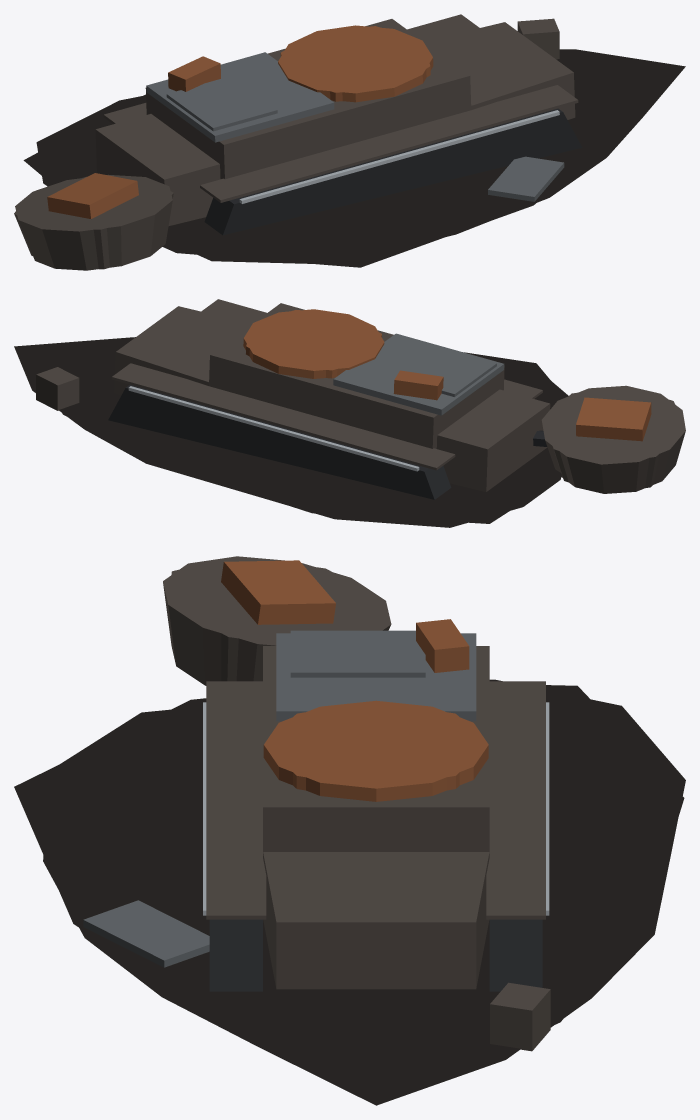
The model's file is neutral_wreck_heavy_vehicle.glb.
3 views of the same model, one above another, from view 1: azimuth 30°, elevation 25°; view 2: azimuth 150°, elevation 25°; view 3: azimuth 270°, elevation 25° (orthographic). The views are drawn at different scales.
Visible parts, largest first — view 1: hull (×3), scorch (×2), turret (×3), debris; view 2: hull (×3), scorch (×2), turret (×3), debris; view 3: hull (×3), scorch (×2), turret (×3), debris.
Part boxes in pixels (bbox=[...]): hull (×3): bbox=[95, 14, 582, 235]; scorch (×2): bbox=[23, 49, 685, 267]; turret (×3): bbox=[14, 173, 173, 270]; debris: bbox=[488, 18, 564, 201]; hull (×3): bbox=[108, 299, 550, 499]; scorch (×2): bbox=[14, 337, 568, 527]; turret (×3): bbox=[541, 385, 685, 493]; debris: bbox=[36, 367, 79, 410]; hull (×3): bbox=[203, 619, 549, 991]; scorch (×2): bbox=[14, 679, 685, 1105]; turret (×3): bbox=[163, 556, 391, 685]; debris: bbox=[83, 900, 550, 1051].
Bounding box in the file's own units: 12.93 × 1.97 × 7.47.
